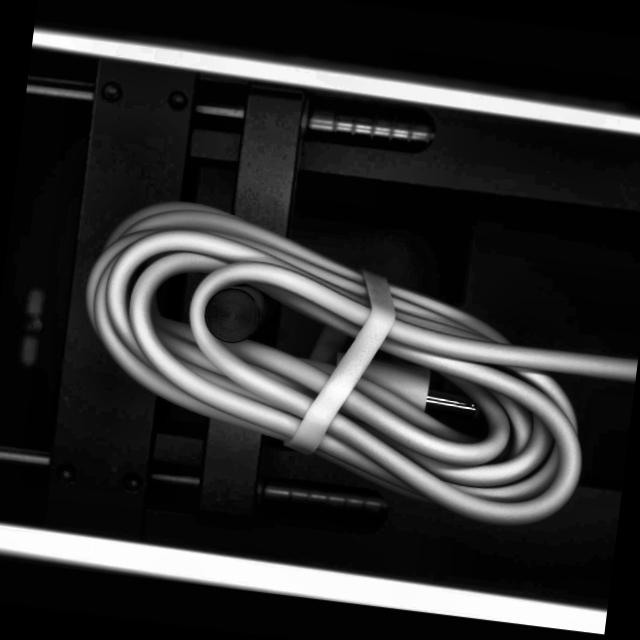Cable: (57, 182, 640, 537)
